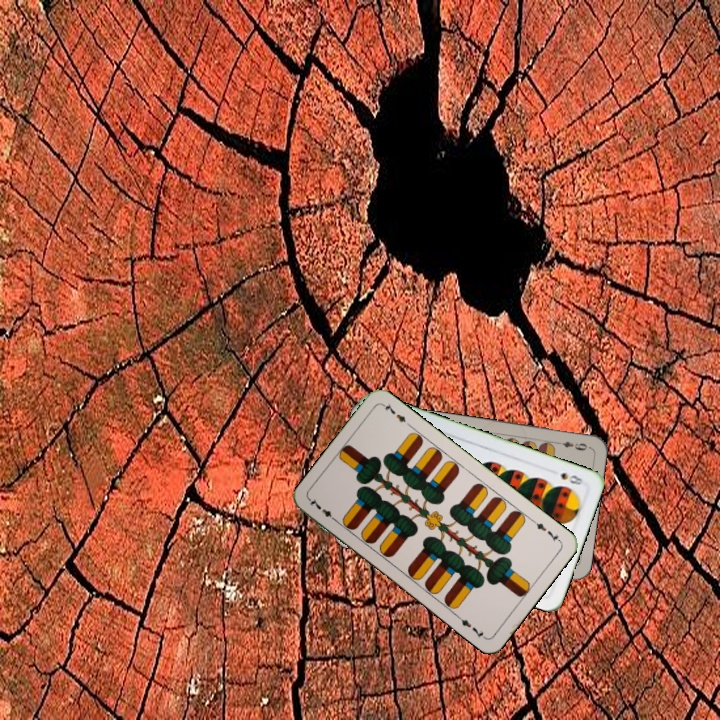E7: (306, 494, 340, 525), (528, 516, 563, 545)
E9: (552, 437, 592, 453)
S8: (556, 468, 585, 488)
